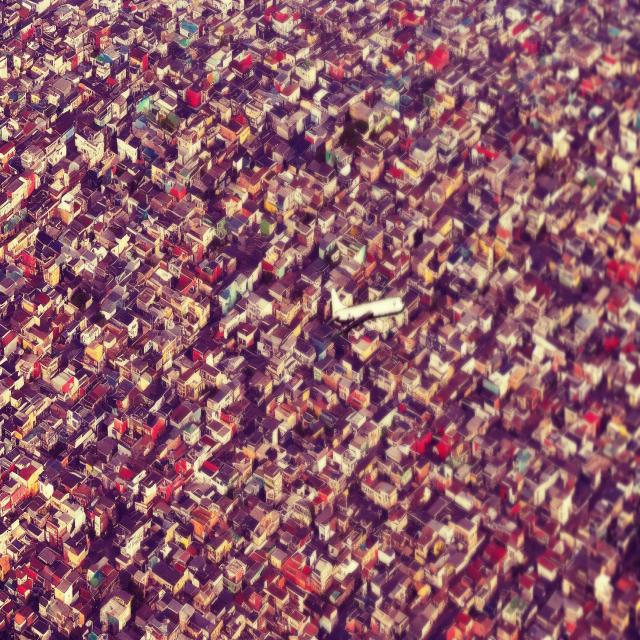airplane: (330, 286, 405, 325)
